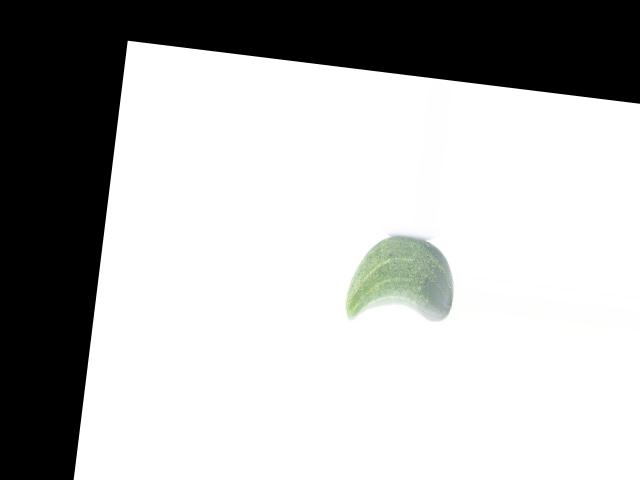cucumber: (342, 230, 459, 331)
